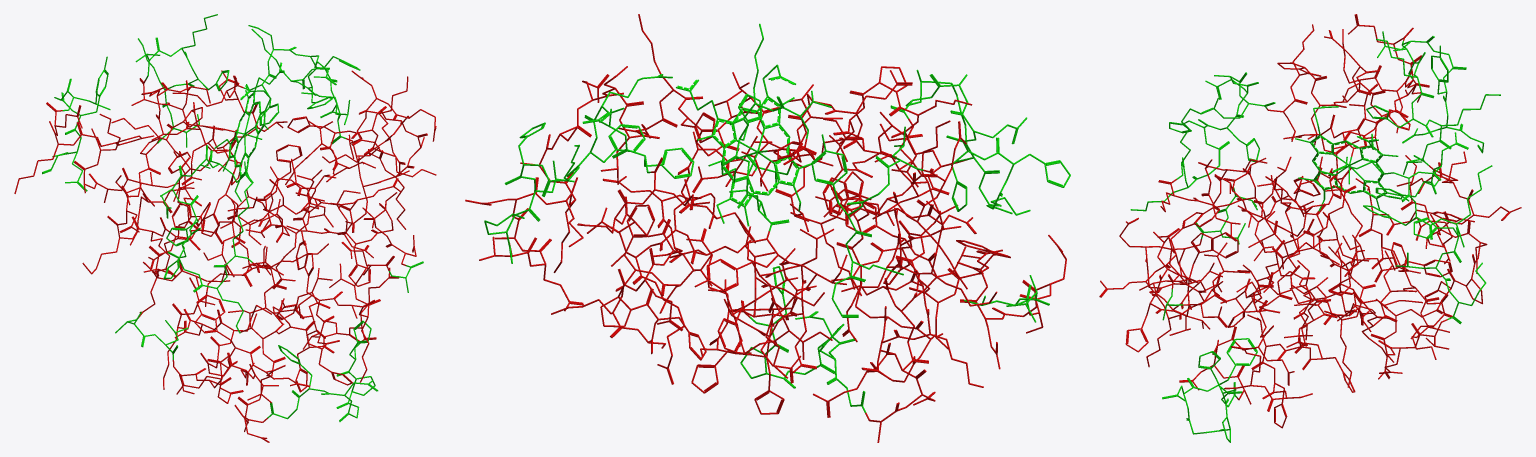
The model's file is 1mbn__lines__secondary-structure.glb.
3 renders of one model, left to right at view 1: azimuth 30°, elevation 25°; view 2: azimuth 150°, elevation 25°; view 3: azimuth 270°, elevation 25°, orthographic. The views are drawn at different scales.
Parts seen in each view (by area): view 1: Renderer Node; view 2: Renderer Node; view 3: Renderer Node.
Boxes of the visible parts, x1=… form: Renderer Node: x1=14, y1=14, x2=436, y2=442; Renderer Node: x1=465, y1=14, x2=1070, y2=442; Renderer Node: x1=1099, y1=14, x2=1521, y2=442.
Size of the model in its own units: 42.81 by 38.98 by 39.04.
